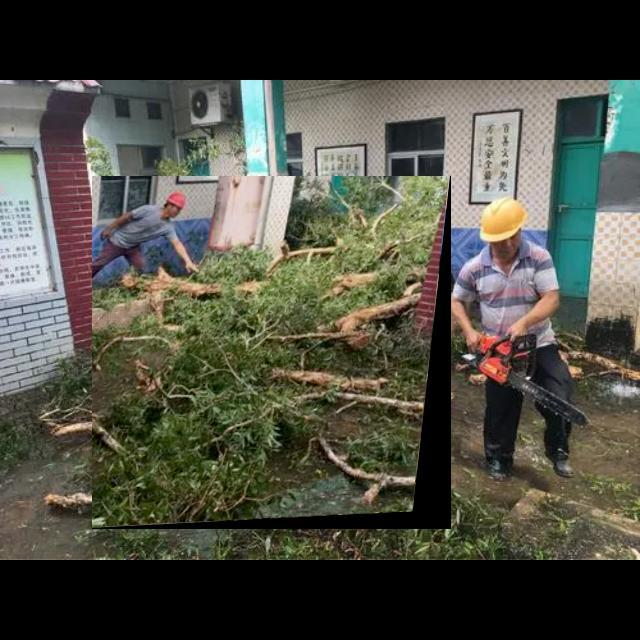fallen_tree: (92, 176, 452, 530)
